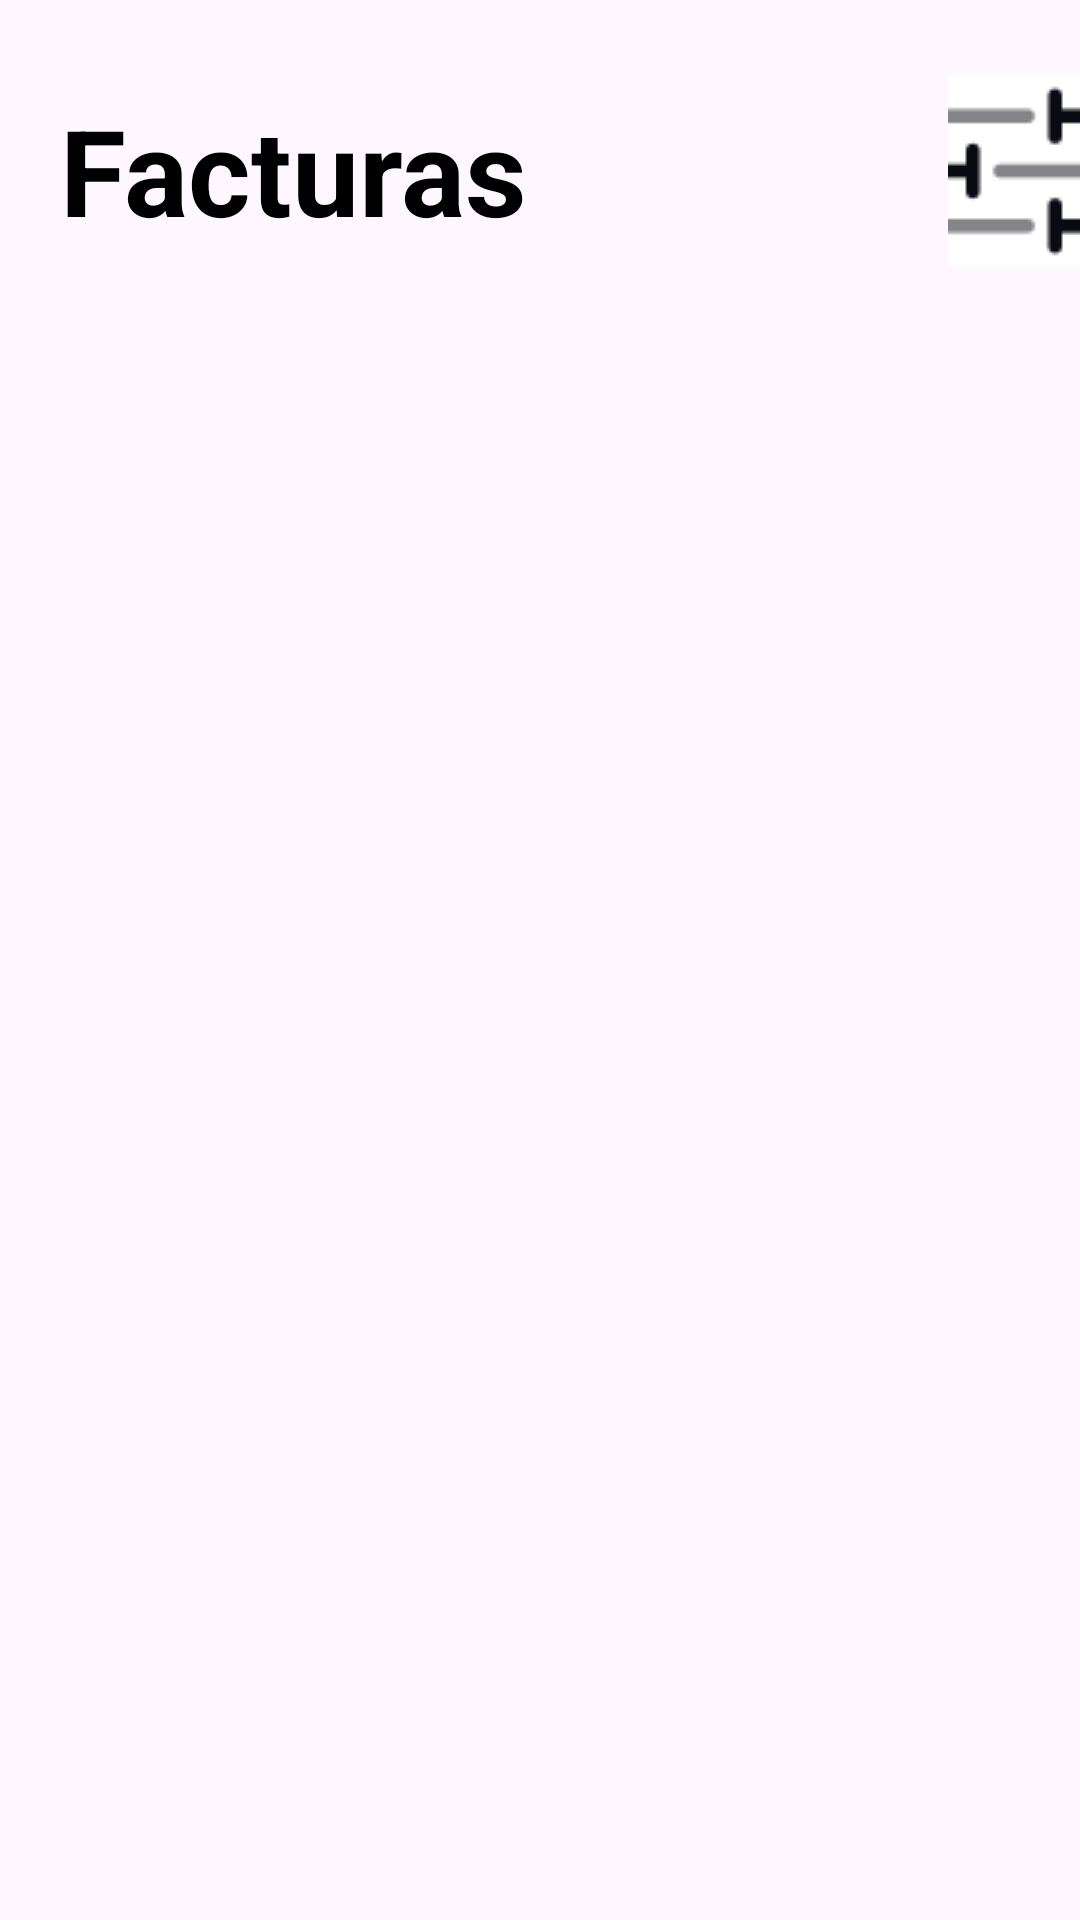

Icons on this 1080px×1920px Android screen, each with the point to tap as point (x, y):
filtros: point (1014, 171)
